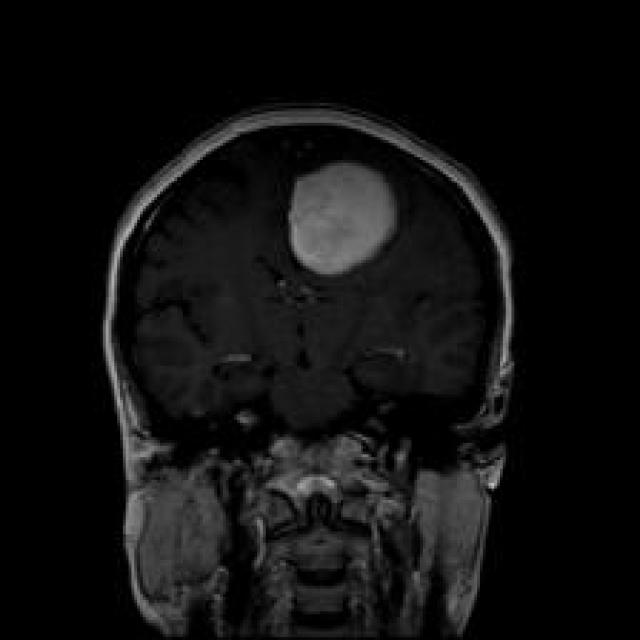meningioma_tumor: (280, 144, 411, 289)
